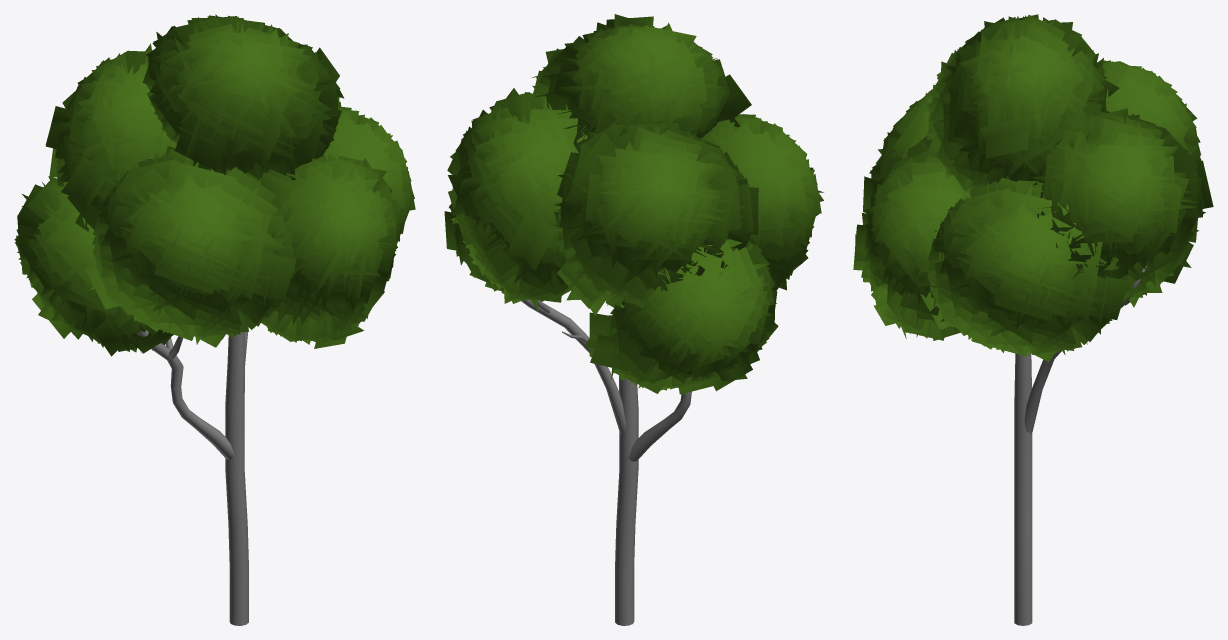
File: SM_tree_01.fbx
The picture shows the model from 3 angles, left to right: view 1: azimuth 30°, elevation 25°; view 2: azimuth 150°, elevation 25°; view 3: azimuth 270°, elevation 25°; orthographic projection. The views are drawn at different scales.
Visible parts, largest first — view 1: Line007; view 2: Line007; view 3: Line007.
Boxes of the visible parts, left/top/right/bottom form: Line007: left=14, top=14, right=415, bottom=625; Line007: left=444, top=14, right=823, bottom=625; Line007: left=853, top=14, right=1213, bottom=625.
Bounding box in the file's own units: 189 × 323 × 179.
